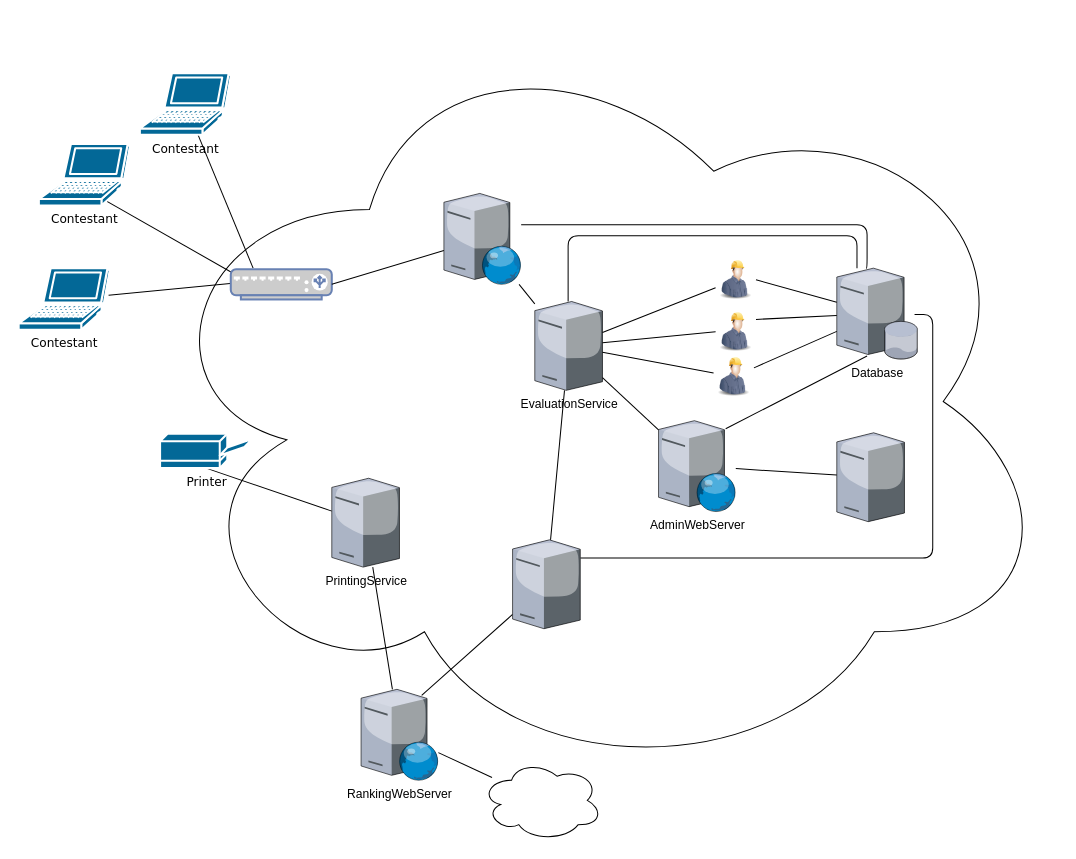
Image size: 1076x859. Some labels were removed from this diagram. The centre of each missing label's shape, as x and y in pixels:
"ContestWebServer" goes at (482,238).
"Internet" goes at (541,800).
"Load Balancer" goes at (280,284).
"ResourceService" goes at (870,476).
"ScoringService" goes at (546,583).
